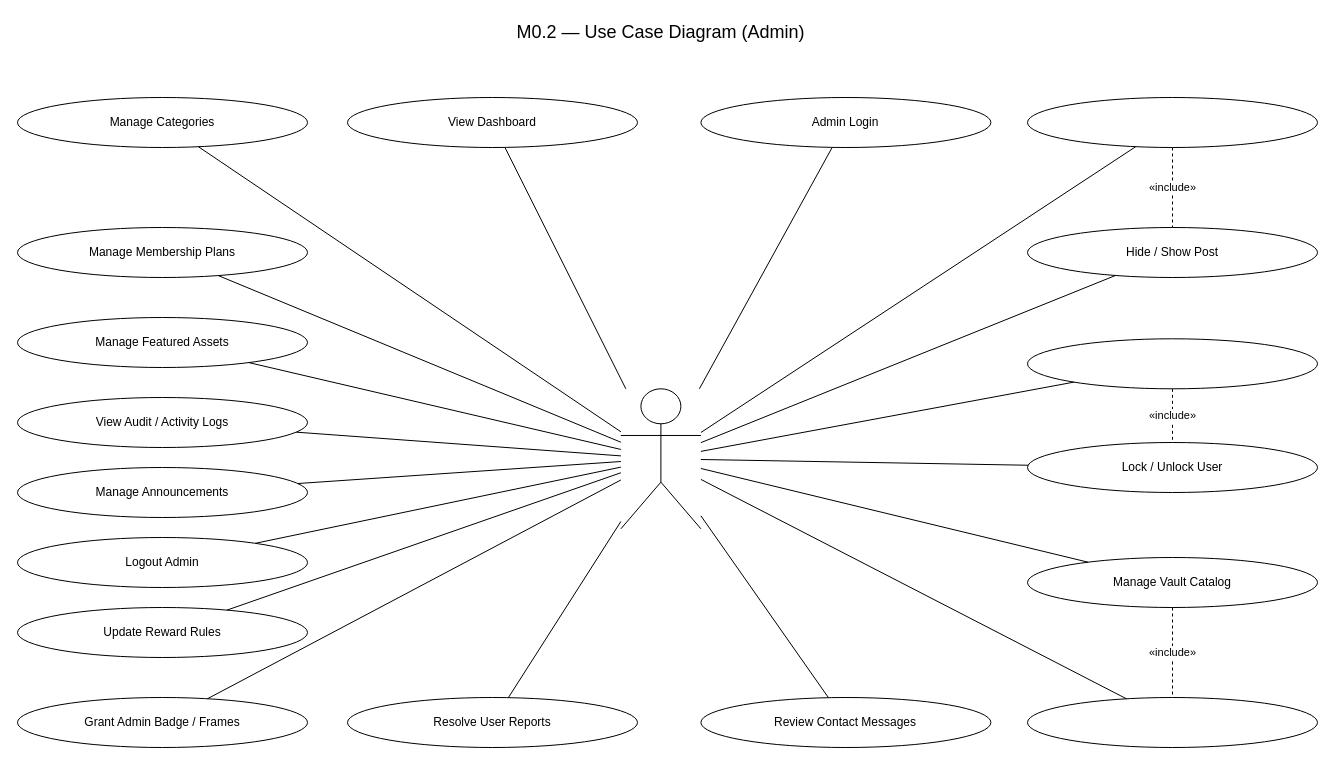
This 1335x765 diagram has some shape labels left out. The shapes that lost their labels are listed below. From the top down, each one's box as (x1, y1, x2, y2) in pixels, then its label:
(1026, 96, 1318, 148): Manage Posts
(1026, 338, 1318, 389): Manage Users
(620, 388, 701, 529): Admin
(1026, 696, 1318, 748): Configure Drop Rates
